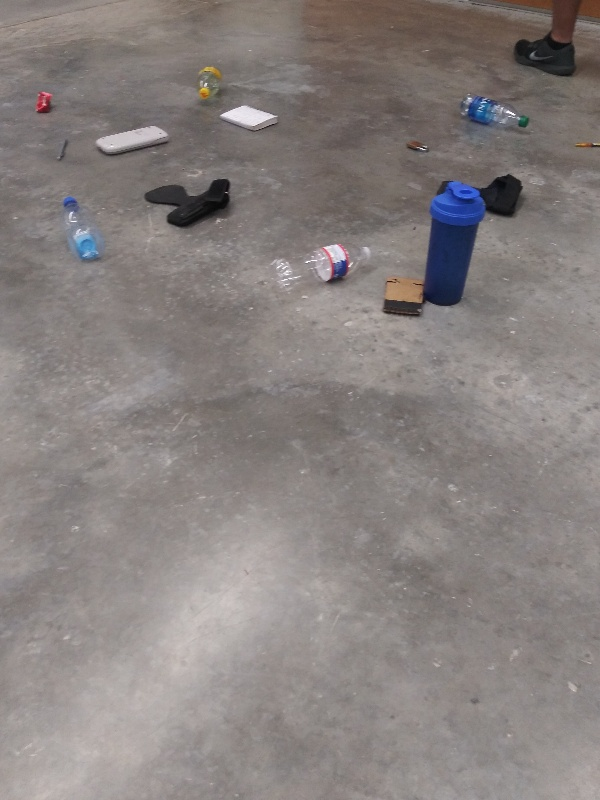bottle: (268, 240, 375, 292), (58, 193, 106, 263), (451, 91, 532, 132), (189, 62, 227, 104)
